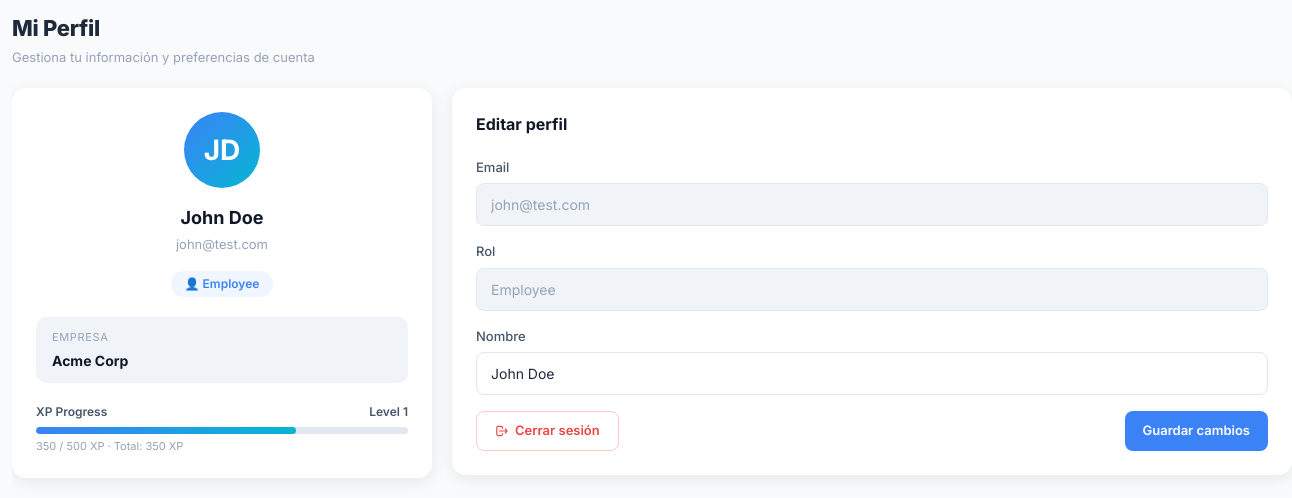
Test case: Profile › deshabilita el botón mientras guarda
The width and height of the screenshot is (1292, 498).
Click the button "Guardar cambios": (1196, 431) [1124, 411, 1268, 450]
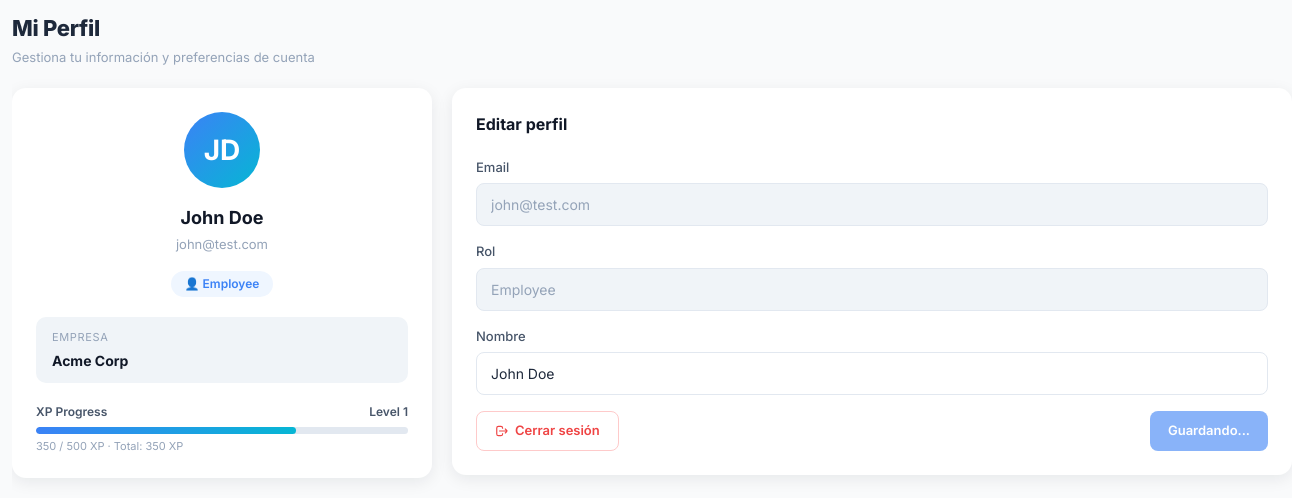
Result: the button "Guardando..." is shown at [1150, 411, 1268, 450]
